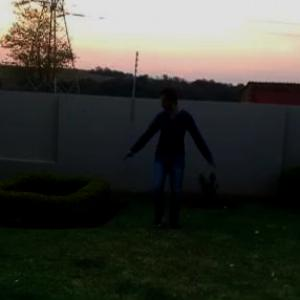land: (116, 84, 241, 260)
